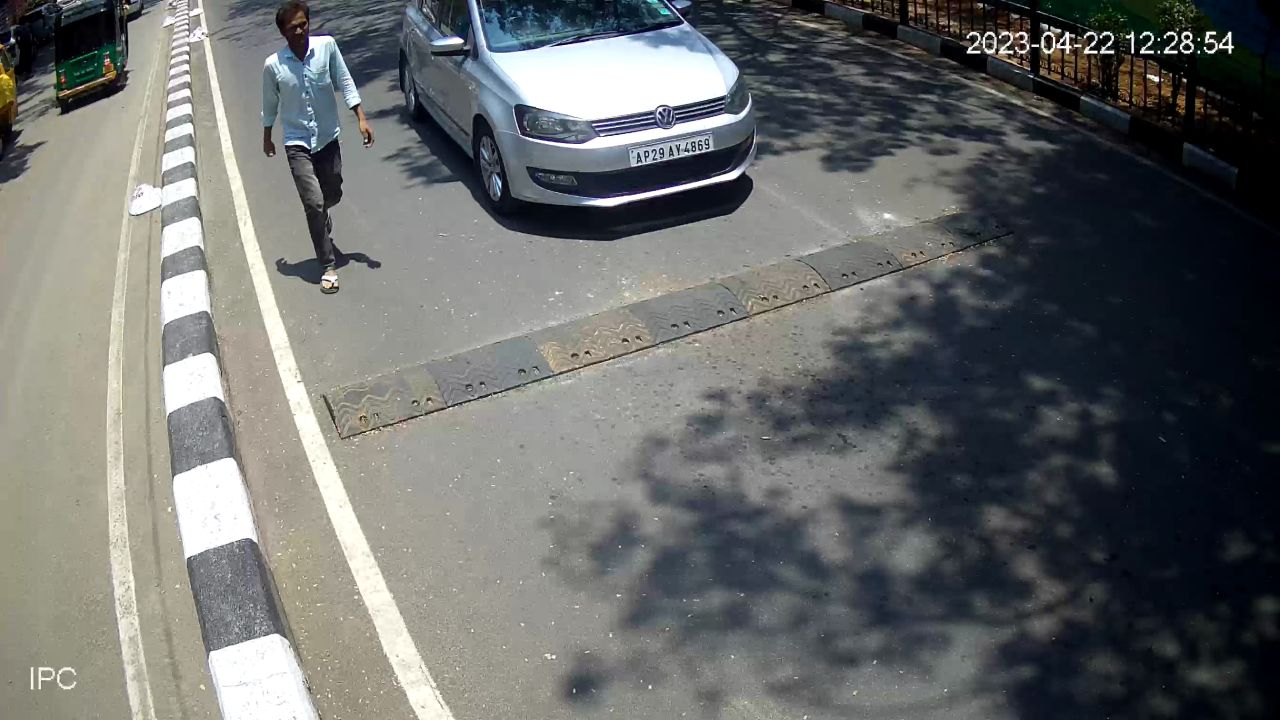license_plate: (625, 127, 719, 171)
